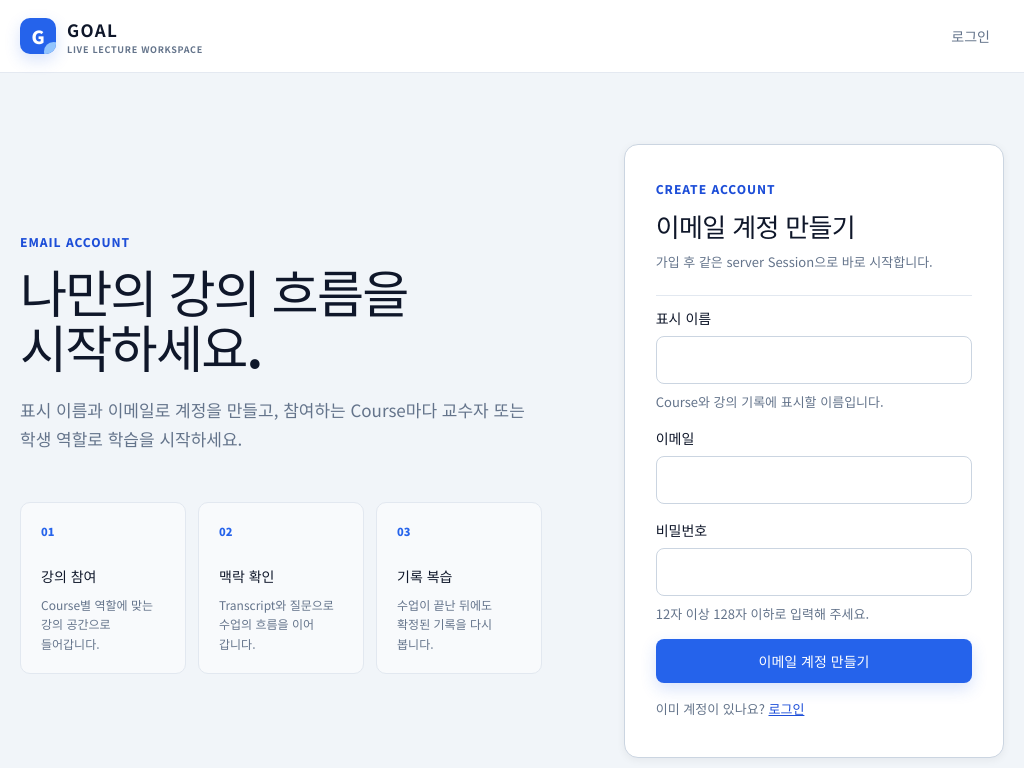
authentication flow › creates an email account and restores the requested route
The image size is (1024, 768).
Type "김도현" into the field labelled "표시 이름" at (814, 360), box [656,336,972,384]
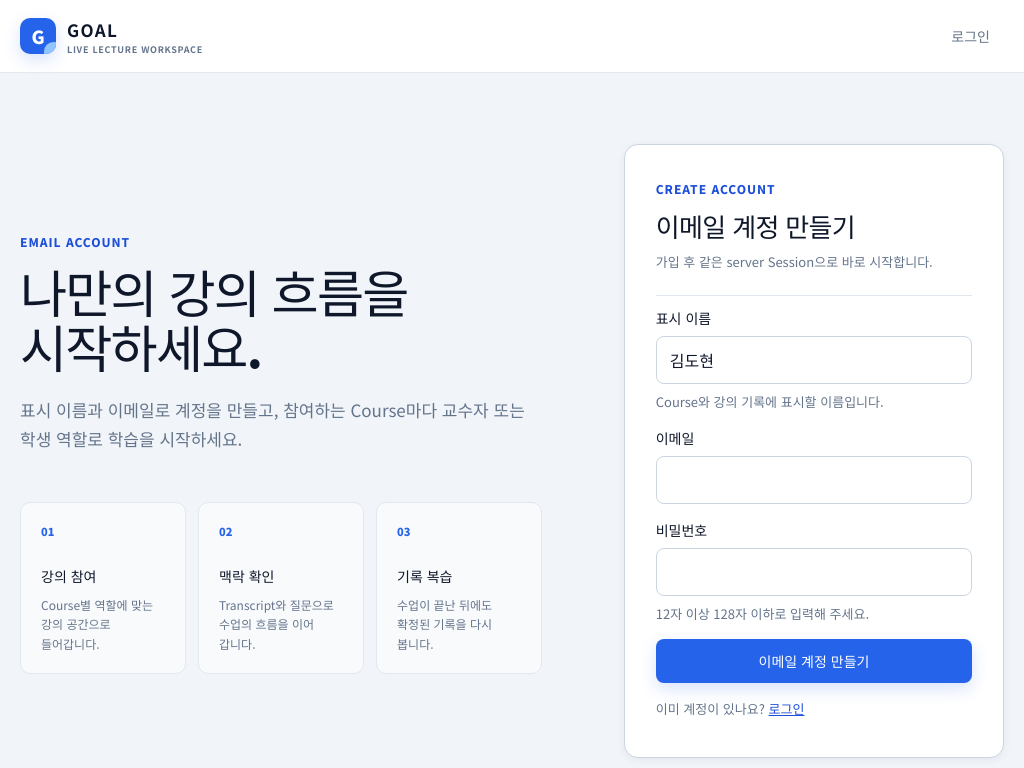
Type "dohyun@example.test" into the field labelled "이메일" at (814, 480), box [656,456,972,504]
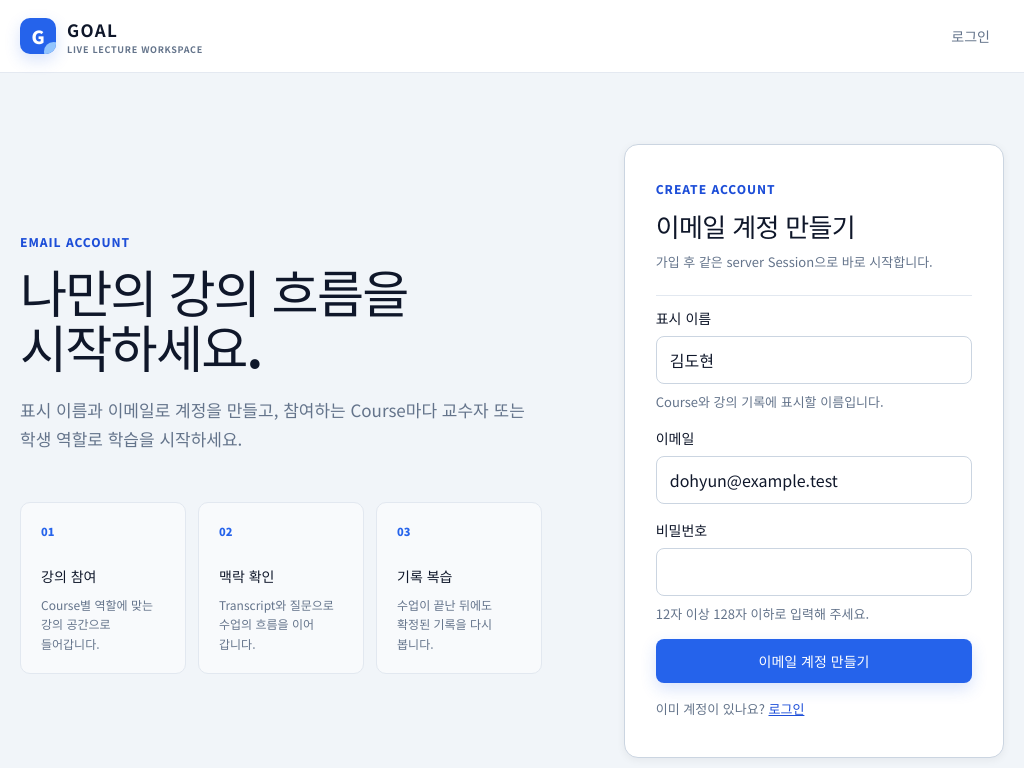
Type "correct horse battery staple" into the password field labelled "비밀번호" at (814, 572), box [656,548,972,596]
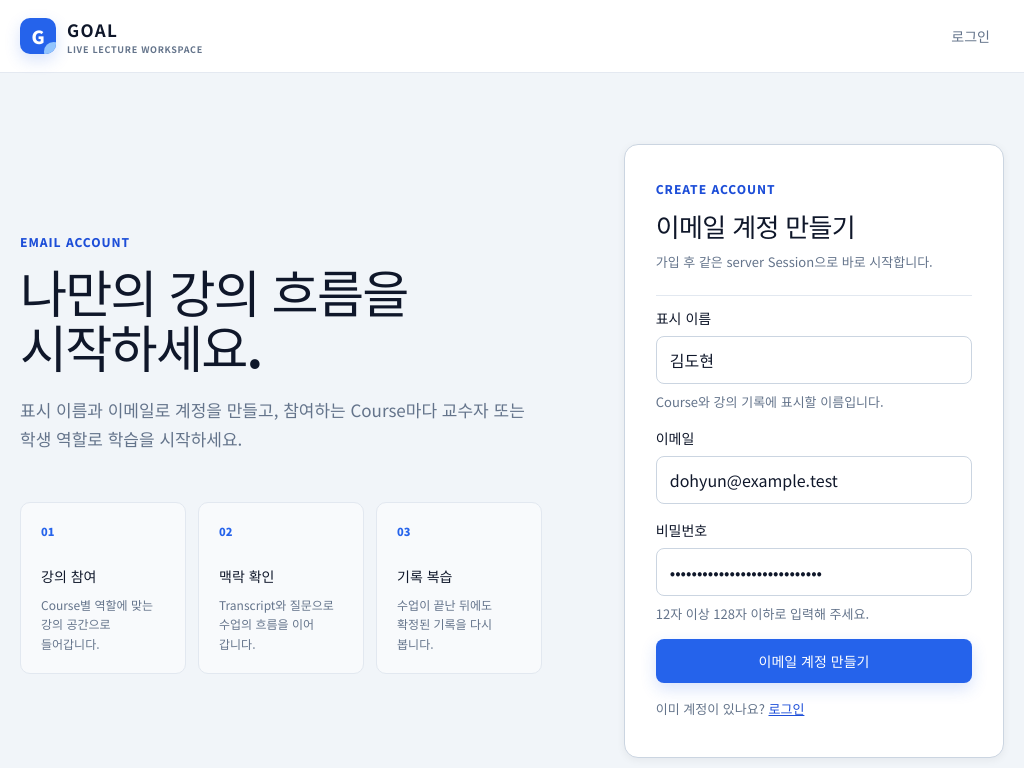
Click the button "이메일 계정 만들기" at (814, 661), box [656,639,972,683]
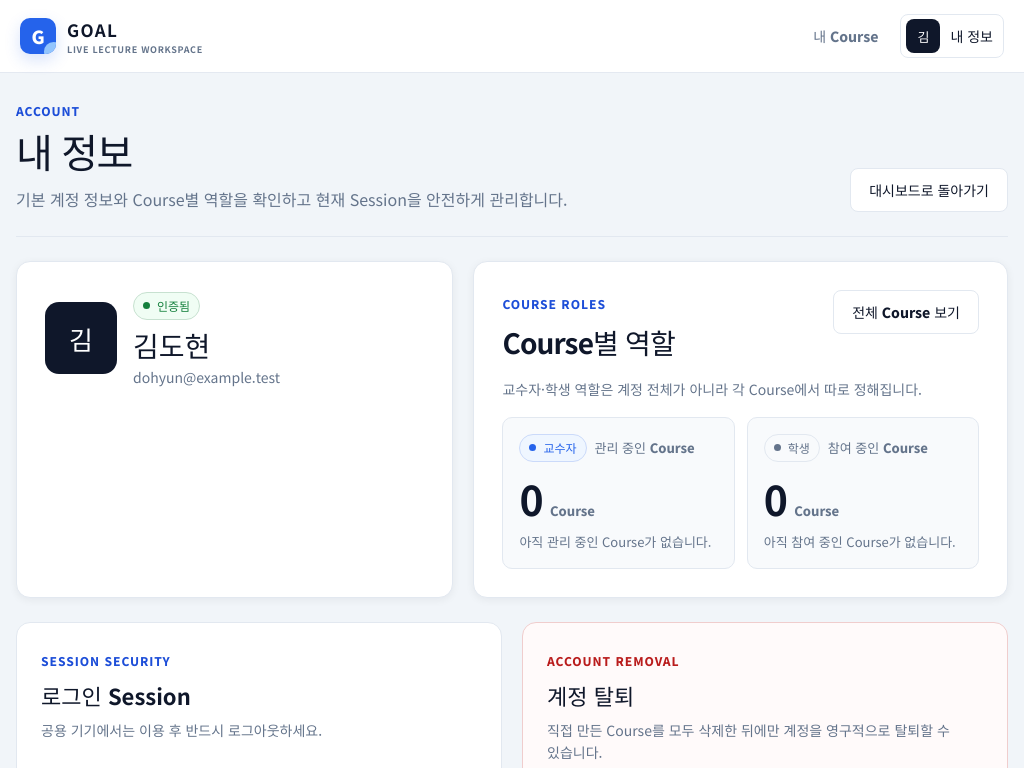
Expected: the heading "내 정보" is shown, [16,122,132,180]
